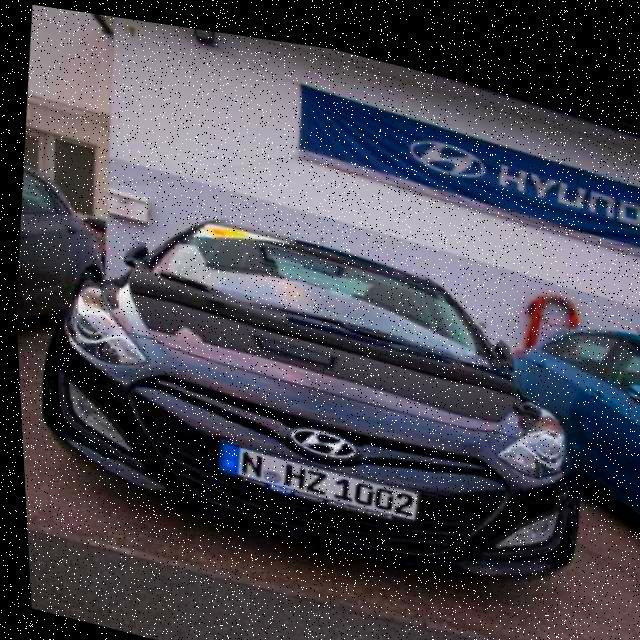license_plate: (211, 432, 417, 515)
